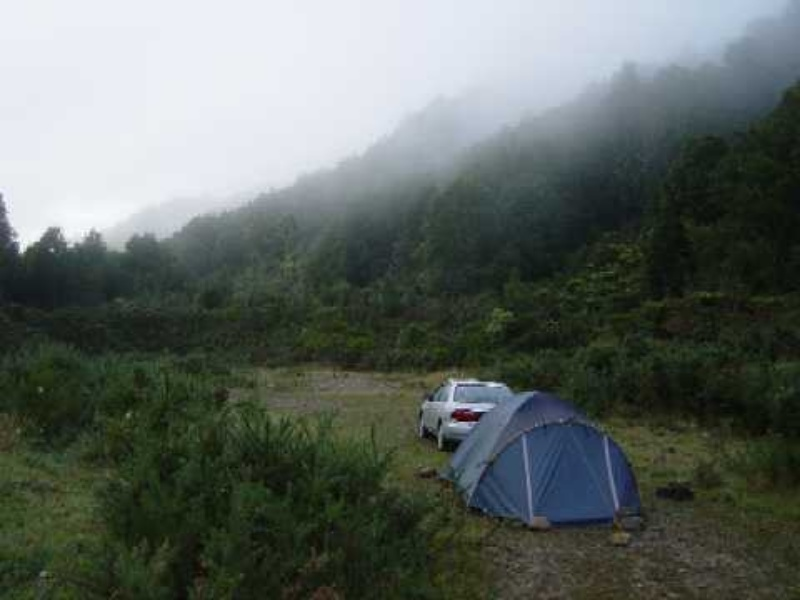car: (418, 378, 512, 449)
